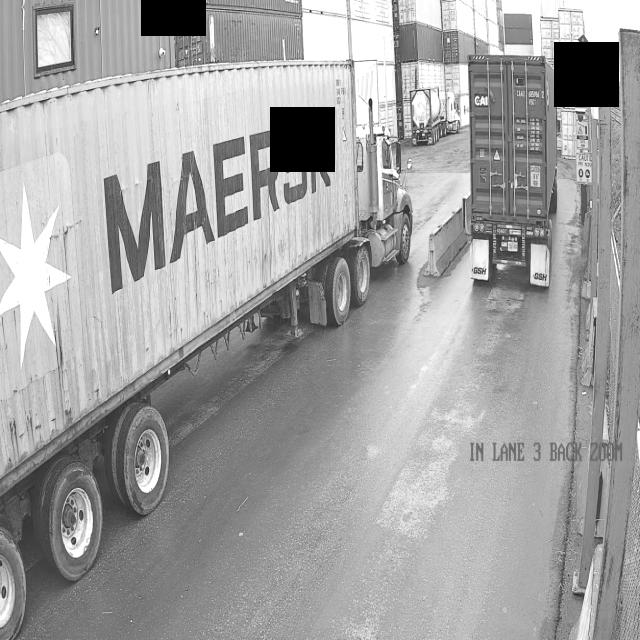container_company_logo: (99, 102, 336, 308), (472, 87, 493, 108)
truck_with_container: (0, 61, 413, 640), (458, 55, 556, 287)
